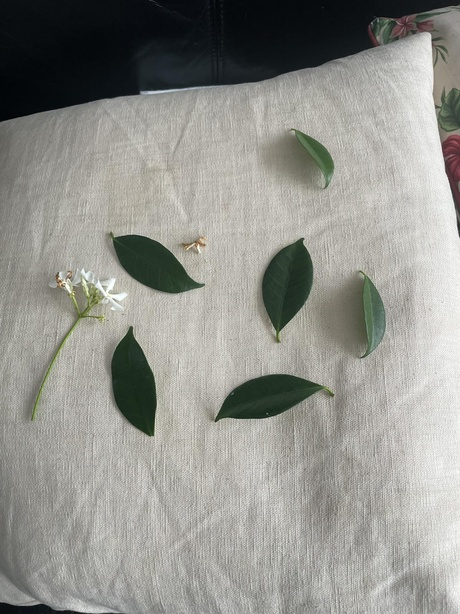leaf: (107, 230, 212, 292), (255, 231, 312, 345), (108, 325, 165, 438), (211, 372, 334, 422), (353, 271, 393, 361), (287, 125, 337, 193)
